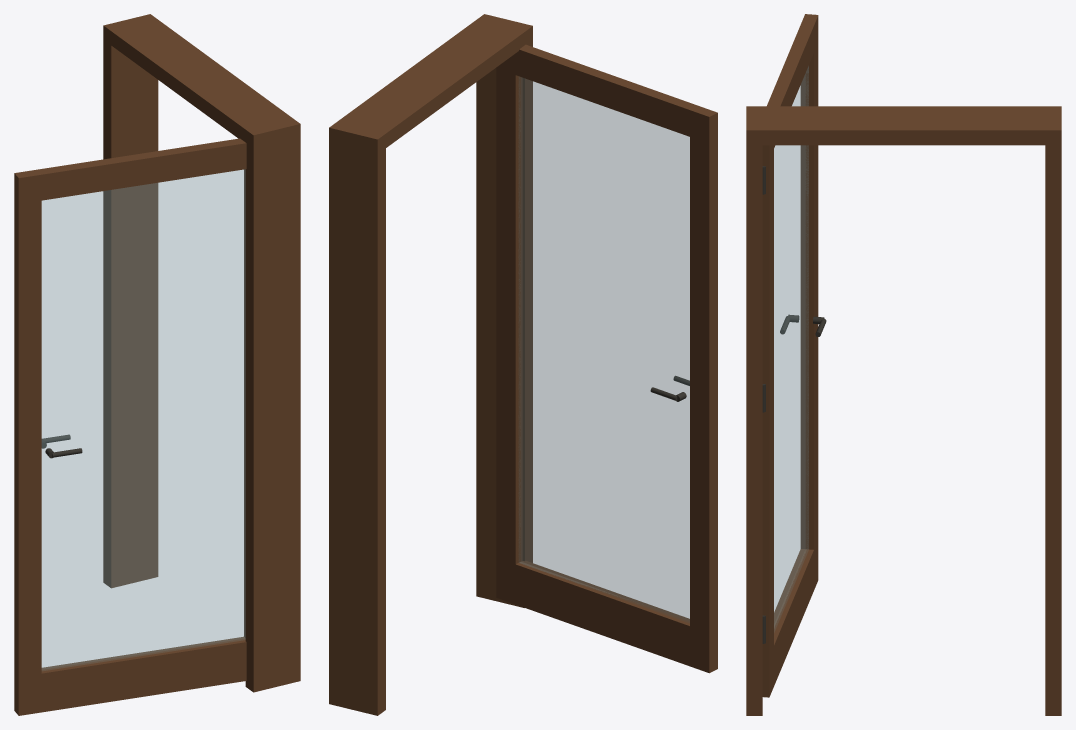
The model's file is door-entry.gltf.
The picture shows the model from 3 angles, left to right: view 1: azimuth 30°, elevation 25°; view 2: azimuth 150°, elevation 25°; view 3: azimuth 270°, elevation 25°; orthographic projection. The views are drawn at different scales.
Parts seen in each view (by area): view 1: Enclosure wall 04 door clear glass, Enclosure wall 04 frame jamb 0 2.00, Enclosure wall 04 frame jamb 0 2.99, Enclosure wall 04 door lock stile, Enclosure wall 04 frame head 0, Enclosure wall 04 door bottom rail, Enclosure wall 04 door top rail, Enclosure wall 04 door hinge stile; view 2: Enclosure wall 04 door clear glass, Enclosure wall 04 frame jamb 0 2.99, Enclosure wall 04 frame jamb 0 2.00, Enclosure wall 04 door lock stile, Enclosure wall 04 door hinge stile, Enclosure wall 04 frame head 0, Enclosure wall 04 door bottom rail, Enclosure wall 04 door top rail; view 3: Enclosure wall 04 door clear glass, Enclosure wall 04 frame head 0, Enclosure wall 04 frame jamb 0 2.99, Enclosure wall 04 frame jamb 0 2.00, Enclosure wall 04 door lock stile, Enclosure wall 04 door hinge stile, Enclosure wall 04 door bottom rail, Enclosure wall 04 door top rail.
Part boxes in pixels (left/top/right/bottom): Enclosure wall 04 door clear glass: left=42, top=169, right=245, bottom=670; Enclosure wall 04 frame jamb 0 2.00: left=245, top=118, right=300, bottom=692; Enclosure wall 04 frame jamb 0 2.99: left=103, top=14, right=158, bottom=588; Enclosure wall 04 door lock stile: left=14, top=169, right=41, bottom=715; Enclosure wall 04 frame head 0: left=103, top=14, right=300, bottom=149; Enclosure wall 04 door bottom rail: left=41, top=636, right=246, bottom=712; Enclosure wall 04 door top rail: left=37, top=138, right=246, bottom=200; Enclosure wall 04 door hinge stile: left=244, top=169, right=245, bottom=637; Enclosure wall 04 door clear glass: left=519, top=77, right=689, bottom=622; Enclosure wall 04 frame jamb 0 2.99: left=329, top=121, right=385, bottom=715; Enclosure wall 04 frame jamb 0 2.00: left=476, top=14, right=532, bottom=607; Enclosure wall 04 door lock stile: left=690, top=106, right=717, bottom=673; Enclosure wall 04 door hinge stile: left=496, top=53, right=522, bottom=604; Enclosure wall 04 frame head 0: left=329, top=14, right=532, bottom=153; Enclosure wall 04 door bottom rail: left=515, top=561, right=689, bottom=666; Enclosure wall 04 door top rail: left=515, top=44, right=698, bottom=136; Enclosure wall 04 door clear glass: left=774, top=66, right=808, bottom=631; Enclosure wall 04 frame head 0: left=746, top=106, right=1061, bottom=145; Enclosure wall 04 frame jamb 0 2.99: left=1045, top=106, right=1061, bottom=715; Enclosure wall 04 frame jamb 0 2.00: left=746, top=106, right=762, bottom=715; Enclosure wall 04 door lock stile: left=800, top=14, right=818, bottom=589; Enclosure wall 04 door hinge stile: left=762, top=145, right=773, bottom=697; Enclosure wall 04 door bottom rail: left=774, top=549, right=813, bottom=685; Enclosure wall 04 door top rail: left=767, top=24, right=813, bottom=147.
Size of the model in its own units: 1.02 by 2.15 by 1.05.
